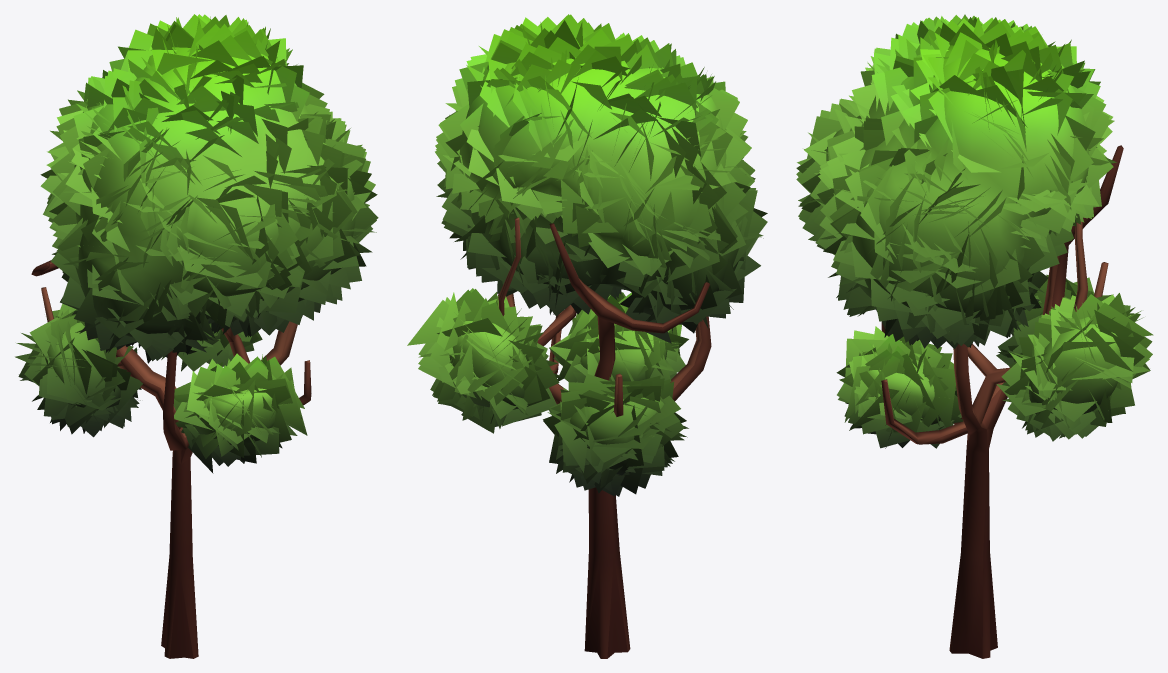
Rendered from Forest_Tree_6A.fbx.
3 renders of one model, left to right at view 1: azimuth 30°, elevation 25°; view 2: azimuth 150°, elevation 25°; view 3: azimuth 270°, elevation 25°, orthographic. The views are drawn at different scales.
Parts seen in each view (by area): view 1: Forest_Tree_6A; view 2: Forest_Tree_6A; view 3: Forest_Tree_6A.
Boxes of the visible parts, box(x1,y1,x2,y2) form: Forest_Tree_6A: box(15, 14, 378, 658); Forest_Tree_6A: box(407, 14, 767, 658); Forest_Tree_6A: box(796, 14, 1153, 658).
Size of the model in its own units: 370 by 741 by 379.
